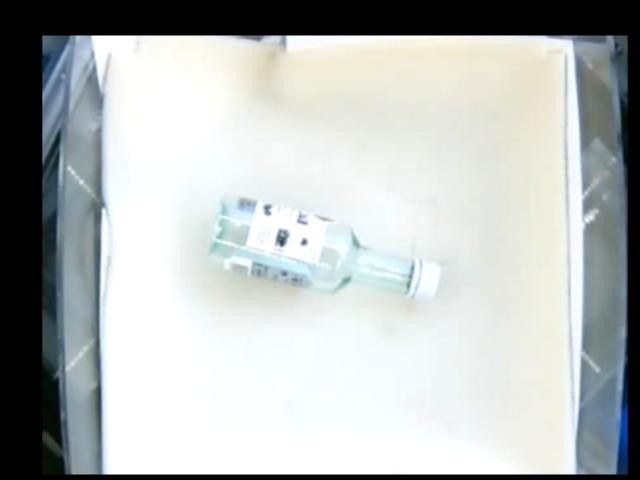Bottle: (206, 195, 442, 306)
